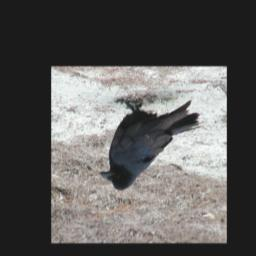Crow: (99, 97, 201, 192)
